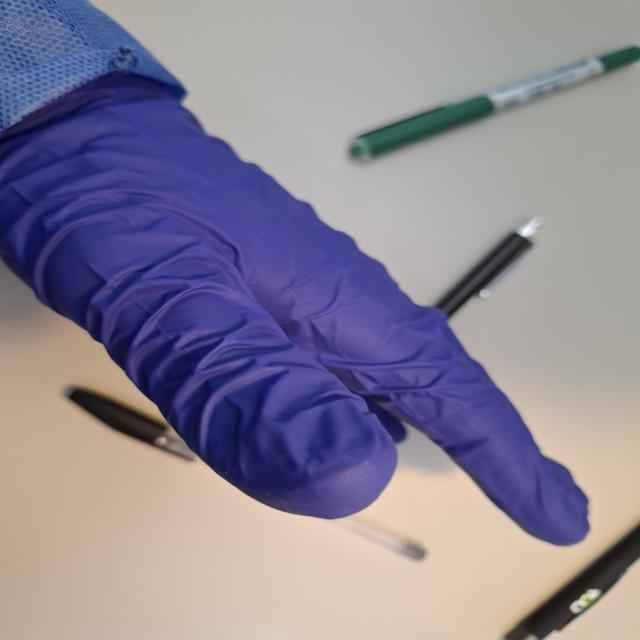glove_on: (0, 62, 596, 550)
